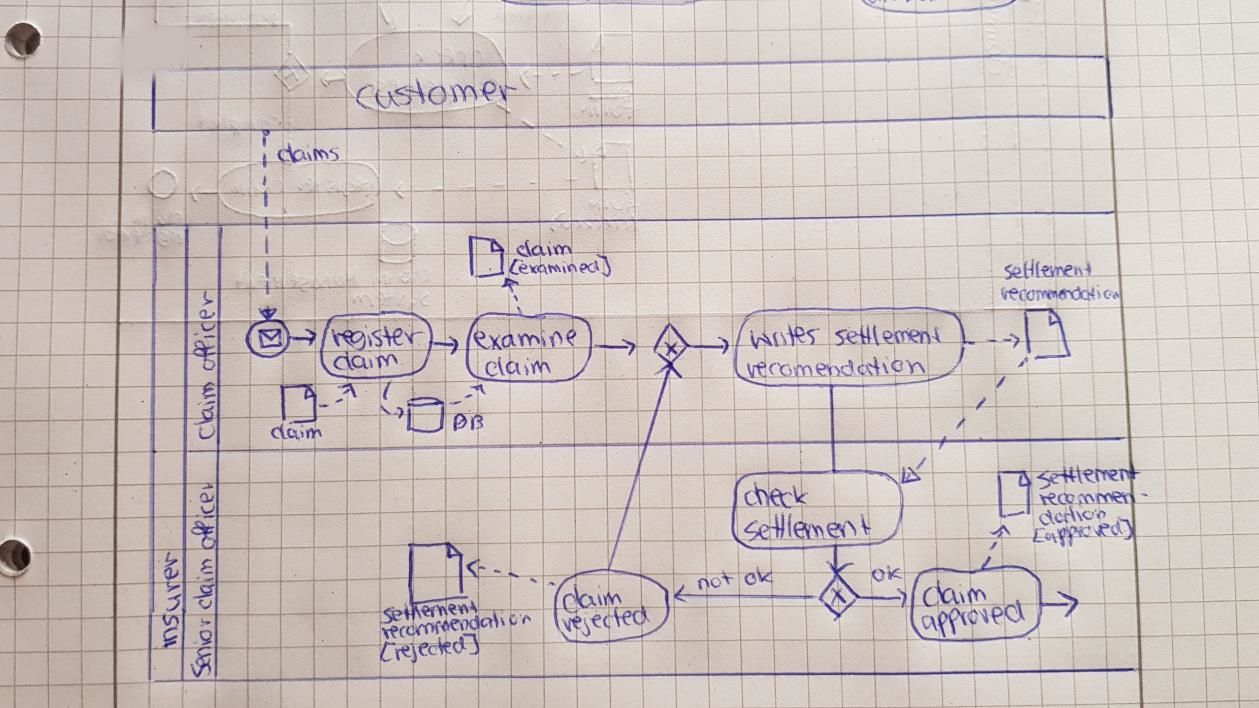DB: (446, 409, 490, 436)
Senior: (184, 612, 219, 684)
[approved]: (1026, 514, 1138, 551)
[examined]: (503, 249, 617, 283)
[rejected]: (374, 630, 485, 668)
approved: (915, 593, 1031, 645)
check: (738, 476, 814, 515)
claim: (917, 576, 992, 614), (557, 579, 628, 619), (187, 376, 223, 446), (480, 352, 559, 381), (329, 346, 405, 376), (187, 553, 219, 614), (265, 418, 329, 445), (509, 236, 578, 261)
claims: (272, 137, 345, 169)
customer: (347, 72, 524, 119)
dation: (1032, 504, 1112, 531)
examine: (469, 322, 583, 357)
insurer: (149, 545, 186, 656)
not: (691, 566, 739, 593)
officer: (187, 283, 223, 377), (186, 475, 222, 556)
ok: (738, 561, 780, 592), (866, 560, 908, 588)
recomendation: (741, 351, 933, 385)
recommen-: (1033, 486, 1154, 510)
recommendation: (375, 604, 538, 646), (992, 280, 1127, 307)
register: (325, 320, 430, 356)
rejected: (556, 601, 657, 641)
settlement: (737, 508, 878, 547), (1032, 457, 1146, 494), (375, 596, 483, 631), (829, 321, 947, 351), (999, 255, 1097, 286)
writes: (743, 319, 826, 356)
